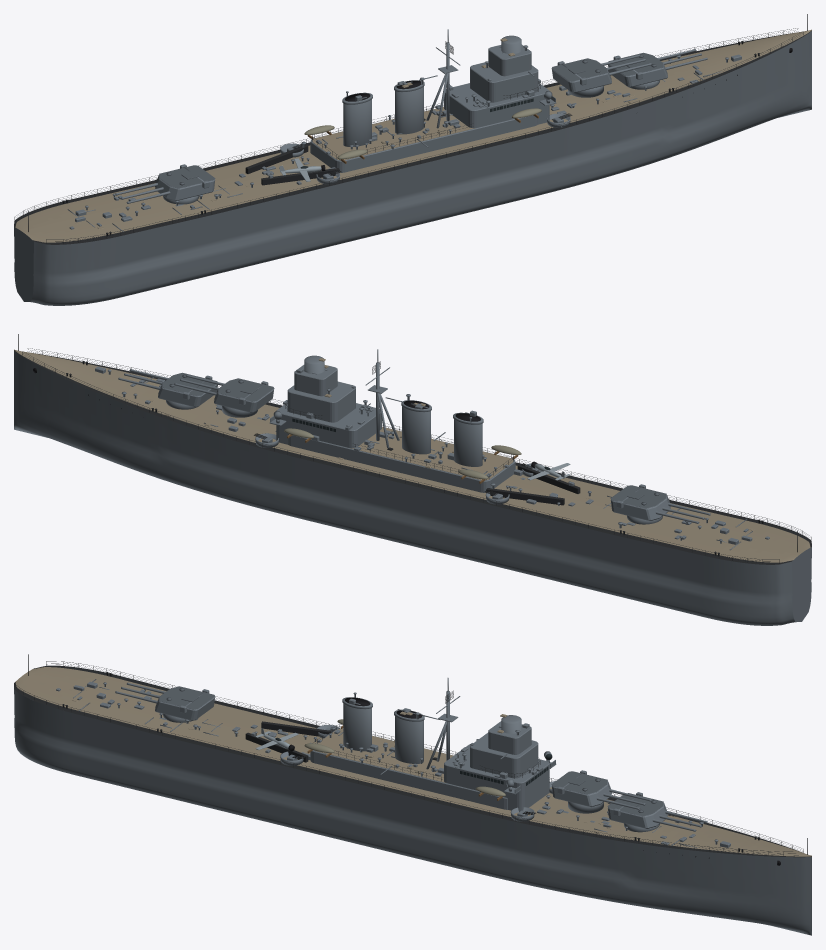
Rendered from northampton.glb.
The picture shows the model from 3 angles, top to bottom: view 1: azimuth 30°, elevation 25°; view 2: azimuth 150°, elevation 25°; view 3: azimuth 330°, elevation 25°; orthographic projection.
Parts seen in each view (by area): view 1: northampton, T_2_malla, T_1_malla, T_0_malla; view 2: northampton, T_2_malla, T_1_malla, T_0_malla; view 3: northampton, T_1_malla, T_2_malla, T_0_malla.
Part boxes in pixels (x1=…): northampton: x1=14, y1=14, x2=811, y2=305; T_2_malla: x1=155, y1=164, x2=215, y2=200; T_1_malla: x1=551, y1=58, x2=611, y2=92; T_0_malla: x1=608, y1=52, x2=667, y2=87; northampton: x1=14, y1=334, x2=811, y2=625; T_2_malla: x1=610, y1=484, x2=670, y2=520; T_1_malla: x1=214, y1=378, x2=274, y2=412; T_0_malla: x1=158, y1=372, x2=217, y2=407; northampton: x1=14, y1=654, x2=811, y2=935; T_1_malla: x1=551, y1=770, x2=611, y2=806; T_2_malla: x1=155, y1=686, x2=215, y2=720; T_0_malla: x1=607, y1=792, x2=667, y2=828.
Size of the model in its own units: 183 by 37.5 by 20.53.
